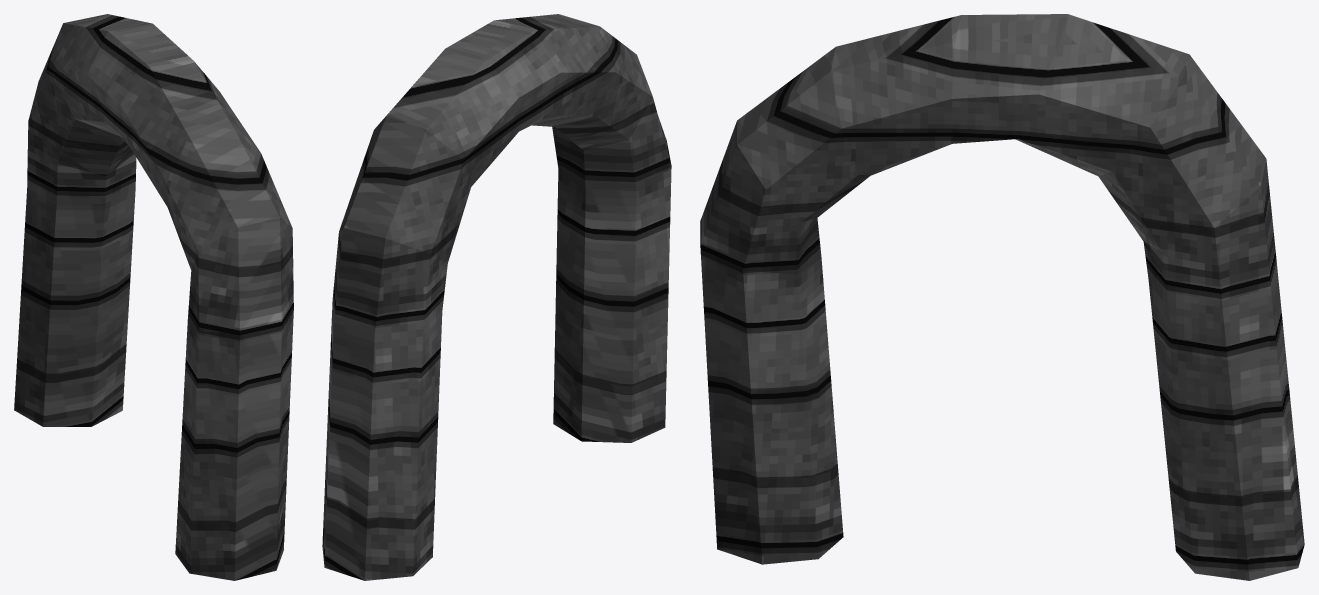
Rendered from chain.fbx.
3 renders of one model, left to right at view 1: azimuth 30°, elevation 25°; view 2: azimuth 150°, elevation 25°; view 3: azimuth 270°, elevation 25°, orthographic. The views are drawn at different scales.
Visible parts, largest first — view 1: Cylinder; view 2: Cylinder; view 3: Cylinder.
Boxes of the visible parts, x1,y1,x2,y2 form: Cylinder: [14, 14, 293, 580]; Cylinder: [322, 14, 671, 580]; Cylinder: [700, 14, 1304, 580].
Size of the model in its own units: 32.72 by 105 by 111.
